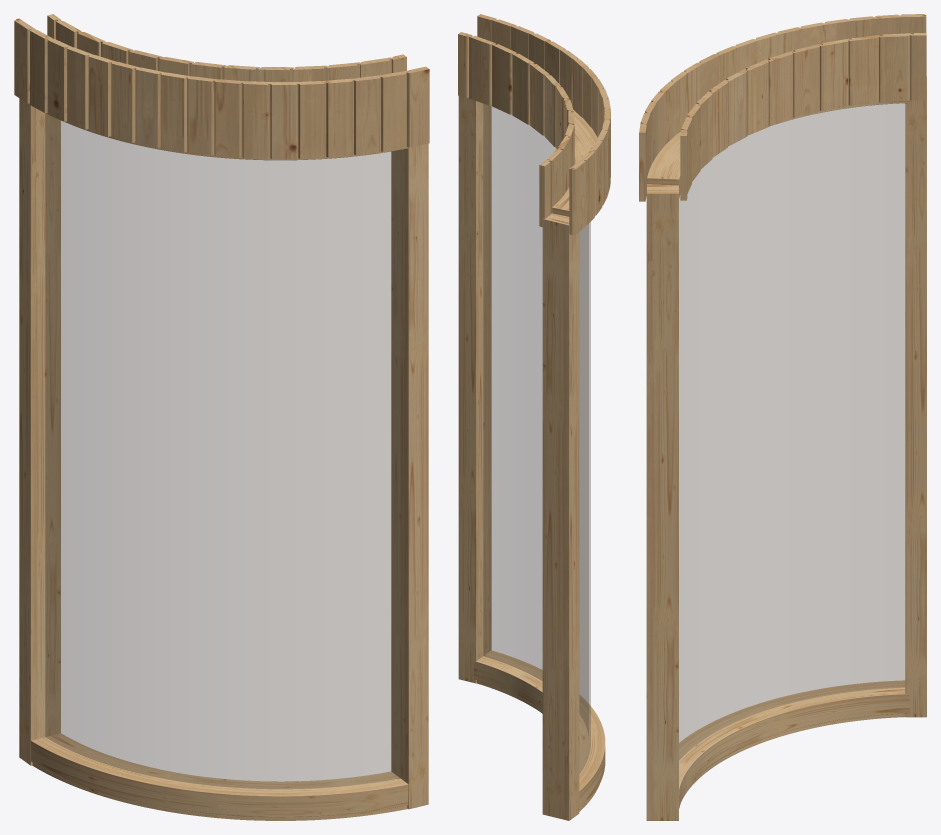
The model's file is Roundy_Nurk_Klaasist.glb.
The picture shows the model from 3 angles, left to right: view 1: azimuth 30°, elevation 25°; view 2: azimuth 150°, elevation 25°; view 3: azimuth 270°, elevation 25°; orthographic projection. The views are drawn at different scales.
Visible parts, largest first — view 1: Box2131641182, Box2131641177 (×2), Rectangle838, Box2131641178, Rectangle839, Box2131641180; view 2: Box2131641177 (×2), Box2131641182, Rectangle839, Rectangle838, Box2131641178 (×2); view 3: Box2131641182, Box2131641177 (×2), Rectangle839, Box2131641178 (×2), Rectangle838, Box2131641180.
Boxes of the visible parts, left/top/right/bottom form: Box2131641182: left=45, top=113, right=399, bottom=788; Box2131641177 (×2): left=19, top=98, right=428, bottom=809; Rectangle838: left=14, top=18, right=429, bottom=159; Box2131641178: left=31, top=733, right=408, bottom=817; Rectangle839: left=47, top=14, right=406, bottom=82; Box2131641180: left=32, top=763, right=407, bottom=820; Box2131641177 (×2): left=458, top=96, right=579, bottom=820; Box2131641182: left=483, top=104, right=590, bottom=773; Rectangle839: left=458, top=32, right=574, bottom=226; Rectangle838: left=477, top=14, right=610, bottom=234; Box2131641178 (×2): left=474, top=110, right=605, bottom=809; Box2131641182: left=679, top=103, right=904, bottom=759; Box2131641177 (×2): left=646, top=76, right=926, bottom=820; Rectangle839: left=680, top=33, right=926, bottom=200; Box2131641178 (×2): left=647, top=99, right=909, bottom=808; Rectangle838: left=639, top=14, right=926, bottom=201; Box2131641180: left=682, top=713, right=905, bottom=799.
Size of the model in its own units: 0.7873 by 2.1 by 0.7969.
Materials: 2 (1 with a texture image).
